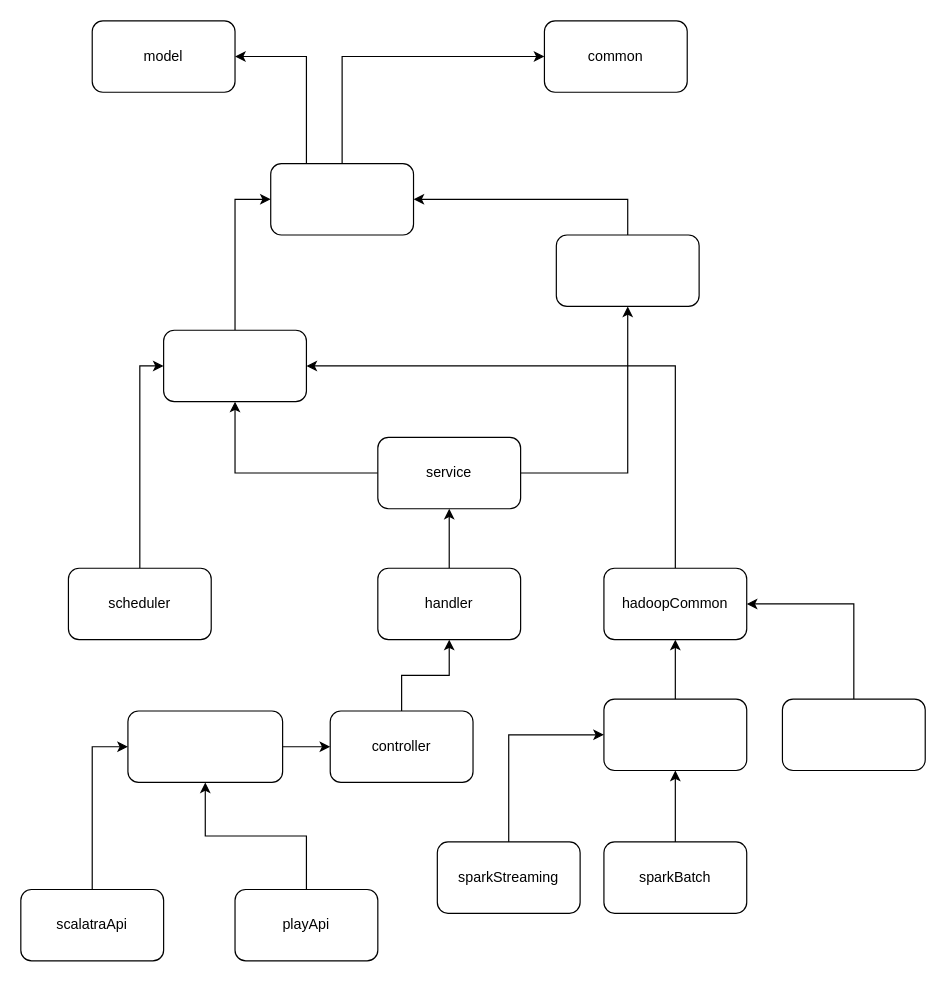
This 946x982 diagram has some shape labels left out. Here are the shapes that lost their labels. From the top down, the centre of each, then its label:
[342,198]: dbCommon
[627,270]: hbaseCommon
[234,365]: mysqlCommon
[205,746]: apiCommon
[675,734]: sparkCommon
[853,734]: flinkCommon
